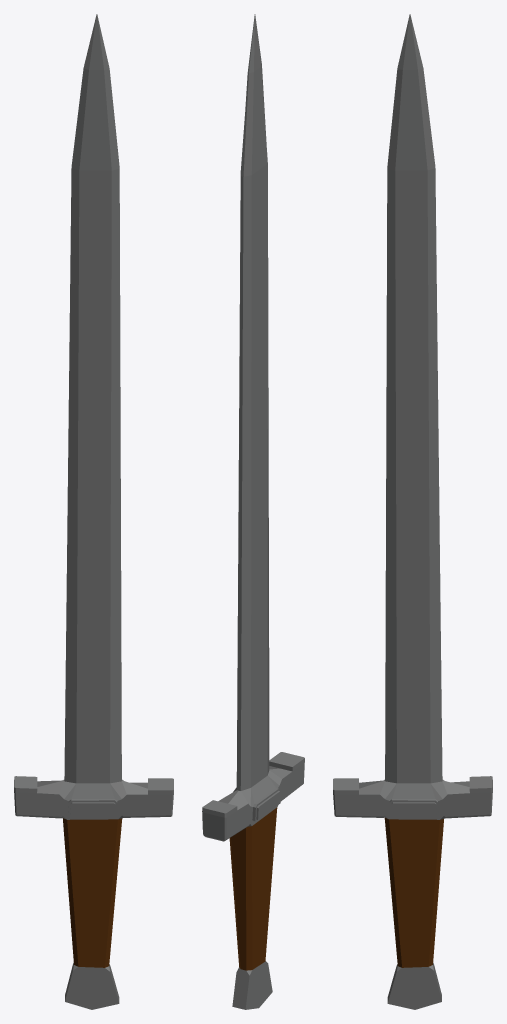
Rendered from Character Sword.fbx.
3 views of the same model, side by side, from view 1: azimuth 90°, elevation 25°; view 2: azimuth 150°, elevation 25°; view 3: azimuth 270°, elevation 25° (orthographic).
Parts seen in each view (by area): view 1: IronSword; view 2: IronSword; view 3: IronSword.
Part boxes in pixels (bbox=[...]): IronSword: bbox=[14, 14, 173, 1009]; IronSword: bbox=[202, 14, 304, 1009]; IronSword: bbox=[333, 14, 492, 1009].
Bounding box in the file's own units: 10.67 × 302 × 44.11.
